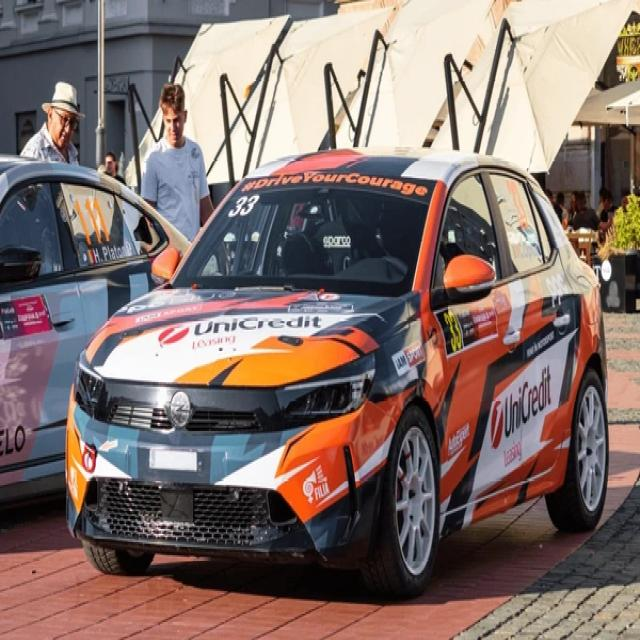opel: (166, 387, 197, 425)
